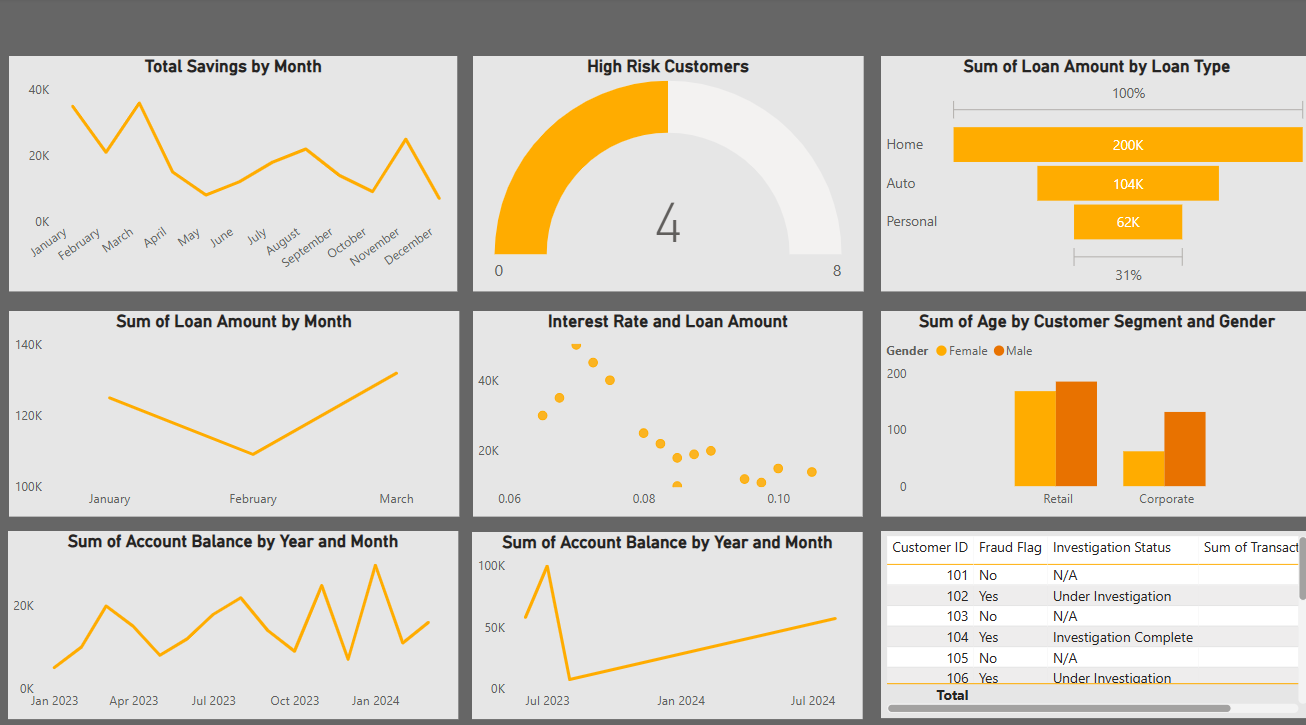

The dashboard page shown, as its layout file describes it:
{"tool":"powerbi","page":{"name":"Page 2","canvas":[1280,720],"ordinal":1},"visuals":[{"type":"gauge","fields":{"Y":["Risk Assessment.High Risk Customers"]},"box":[462.8,56.9,379.5,228.8],"z":0},{"type":"lineChart","fields":{"Y":["Savings Accounts.Total Savings"],"Category":["Savings Accounts.Opening Date.Variation.Date Hierarchy.Month"]},"box":[11.9,56.9,436.4,228.8],"z":1000},{"type":"funnel","fields":{"Category":["Loan Portfolio.Loan Type"],"Y":["Sum(Loan Portfolio.Loan Amount)"]},"box":[859.8,56.4,420.2,228.6],"z":2000},{"type":"lineChart","fields":{"Category":["Loan Portfolio.Start Date.Variation.Date Hierarchy.Month"],"Y":["Sum(Loan Portfolio.Loan Amount)"]},"box":[11.7,304.4,437.7,200.4],"z":3000},{"type":"scatterChart","fields":{"X":["Loan Portfolio.Interest Rate"],"Y":["Loan Portfolio.Loan Amount"]},"box":[463,304.4,379.3,200.4],"z":4000},{"type":"lineChart","fields":{"Category":["Savings Accounts.Opening Date.Variation.Date Hierarchy.Year","Savings Accounts.Opening Date.Variation.Date Hierarchy.Month"],"Y":["Sum(Savings Accounts.Account Balance)"]},"box":[10.7,518.4,437.7,182.9],"z":5000},{"type":"clusteredColumnChart","fields":{"Category":["Customer Demographics.Customer Segment"],"Series":["Customer Demographics.Gender"],"Y":["Sum(Customer Demographics.Age)"]},"box":[859.8,304.4,420.2,200.4],"z":6000},{"type":"lineChart","fields":{"Y":["Sum(Savings Accounts.Account Balance)"],"Category":["Savings Accounts.Last Transaction Date.Variation.Date Hierarchy.Year","Savings Accounts.Last Transaction Date.Variation.Date Hierarchy.Month"]},"box":[462,519.4,380.3,181.9],"z":7000},{"type":"tableEx","fields":{"Values":["Fraud Detection.Customer ID","Fraud Detection.Fraud Flag","Fraud Detection.Investigation Status","Sum(Fraud Detection.Transaction Amount)"]},"box":[859.8,518.4,420.2,181.9],"z":8000}]}

Visuals, with their boxes in screenshot pixels (x1, y1, x2, y2), scaled from the page's 1280x720 canvas onto the 1306x725 screenshot:
gauge - Risk Assessment.High Risk Customers: <region>472, 57, 859, 288</region>
lineChart - Savings Accounts.Total Savings x Savings Accounts.Opening Date.Variation.Date Hierarchy.Month: <region>12, 57, 457, 288</region>
funnel - Loan Portfolio.Loan Type x Sum(Loan Portfolio.Loan Amount): <region>877, 57, 1305, 287</region>
lineChart - Loan Portfolio.Start Date.Variation.Date Hierarchy.Month x Sum(Loan Portfolio.Loan Amount): <region>12, 307, 459, 508</region>
scatterChart - Loan Portfolio.Interest Rate x Loan Portfolio.Loan Amount: <region>472, 307, 859, 508</region>
lineChart - Savings Accounts.Opening Date.Variation.Date Hierarchy.Year x Savings Accounts.Opening Date.Variation.Date Hierarchy.Month: <region>11, 522, 458, 706</region>
clusteredColumnChart - Customer Demographics.Customer Segment x Customer Demographics.Gender: <region>877, 307, 1305, 508</region>
lineChart - Sum(Savings Accounts.Account Balance) x Savings Accounts.Last Transaction Date.Variation.Date Hierarchy.Year: <region>471, 523, 859, 706</region>
tableEx - Fraud Detection.Customer ID x Fraud Detection.Fraud Flag: <region>877, 522, 1305, 705</region>
